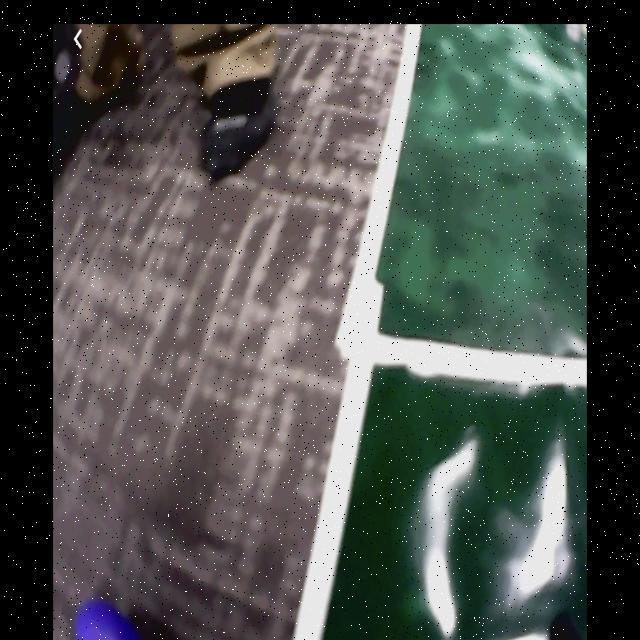ball: (75, 601, 139, 640)
